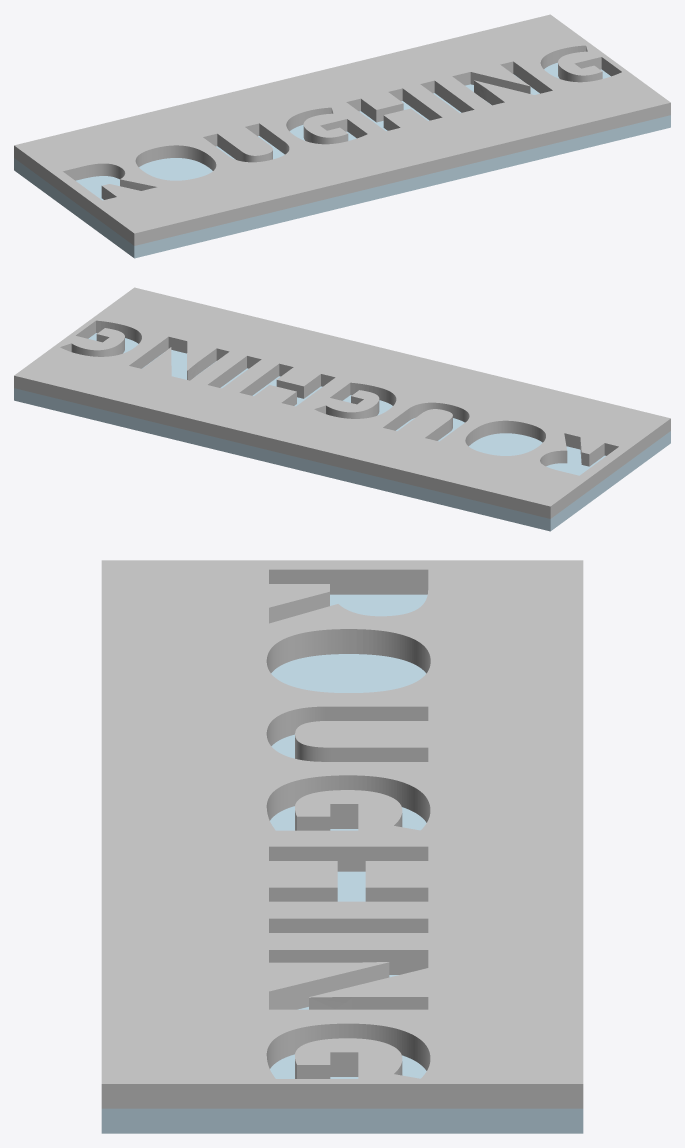
Rendered from Roughing (1).fbx.
3 views of the same model, one above another, from view 1: azimuth 30°, elevation 25°; view 2: azimuth 150°, elevation 25°; view 3: azimuth 270°, elevation 25° (orthographic). The views are drawn at different scales.
Visible parts, largest first — view 1: imagetostl_mesh0, imagetostl_mesh1; view 2: imagetostl_mesh0, imagetostl_mesh1; view 3: imagetostl_mesh0, imagetostl_mesh1.
Part boxes in pixels (x1,y1,x2,y2): imagetostl_mesh0: [14, 14, 670, 245]; imagetostl_mesh1: [14, 62, 670, 258]; imagetostl_mesh0: [14, 287, 670, 518]; imagetostl_mesh1: [14, 333, 670, 531]; imagetostl_mesh0: [101, 560, 583, 1108]; imagetostl_mesh1: [101, 594, 583, 1133].
Bounding box in the file's own units: 9000 × 400 × 3500.
